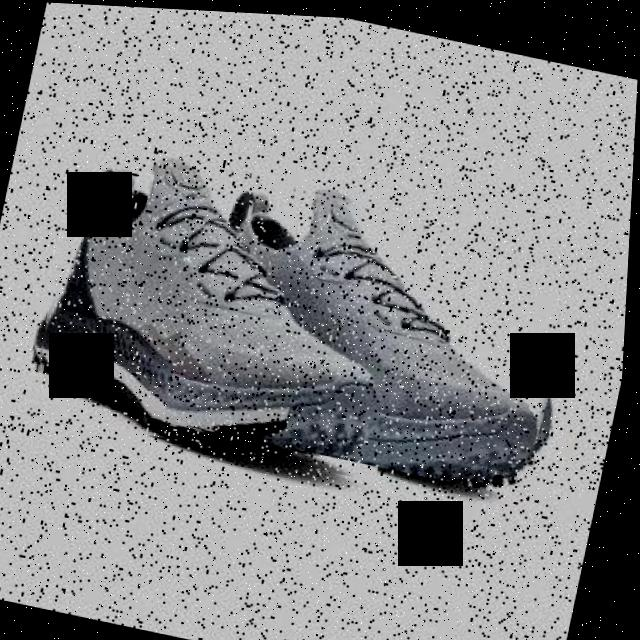shoe: (165, 162, 594, 495), (24, 136, 437, 481)
